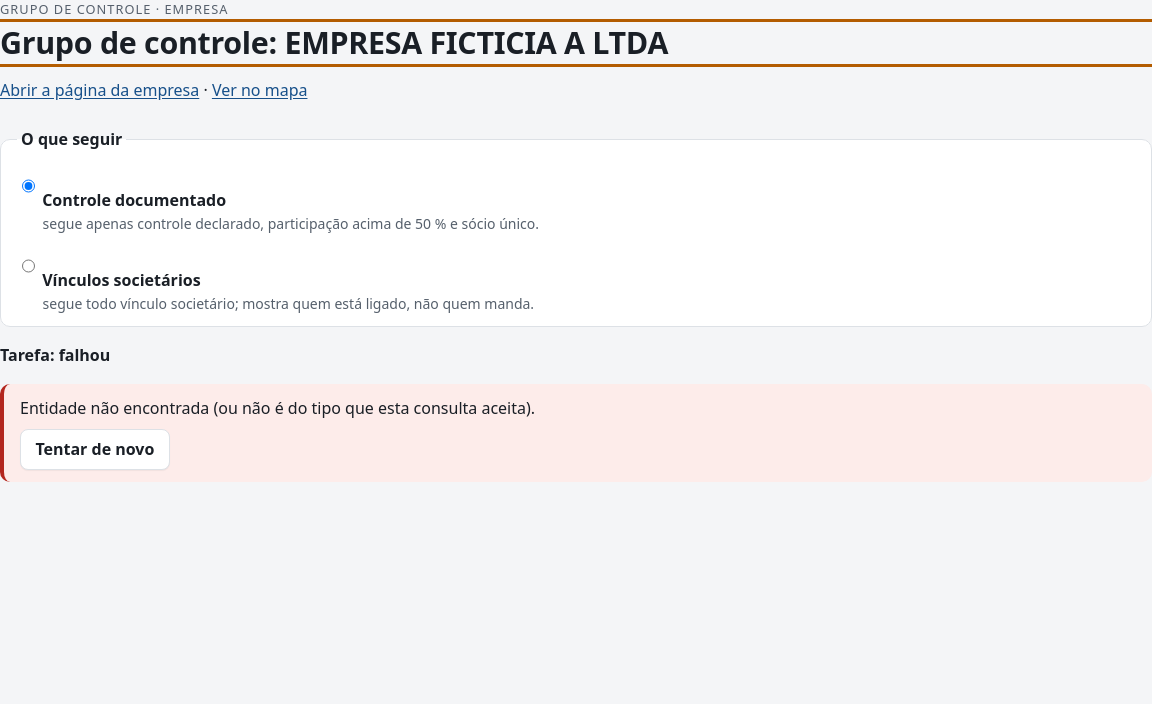
Test case: ControlGroupPage › tarefa que falha mostra o erro e tenta de novo com o mesmo modo
Expected: the 2nd message shows "Entidade não encontrada", [20,397,535,419]
Click the button "Tentar de novo": (95,450) [20,429,170,470]
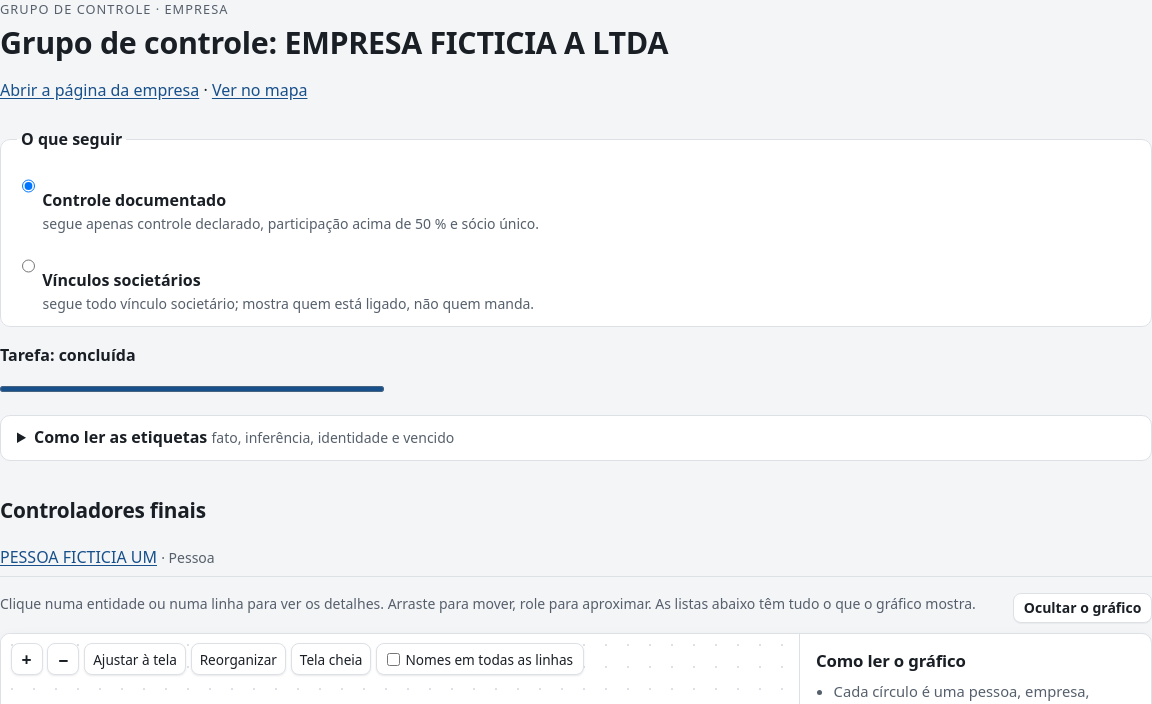
Now the element "Controladores finais" is shown, box [0,497,1151,577]
